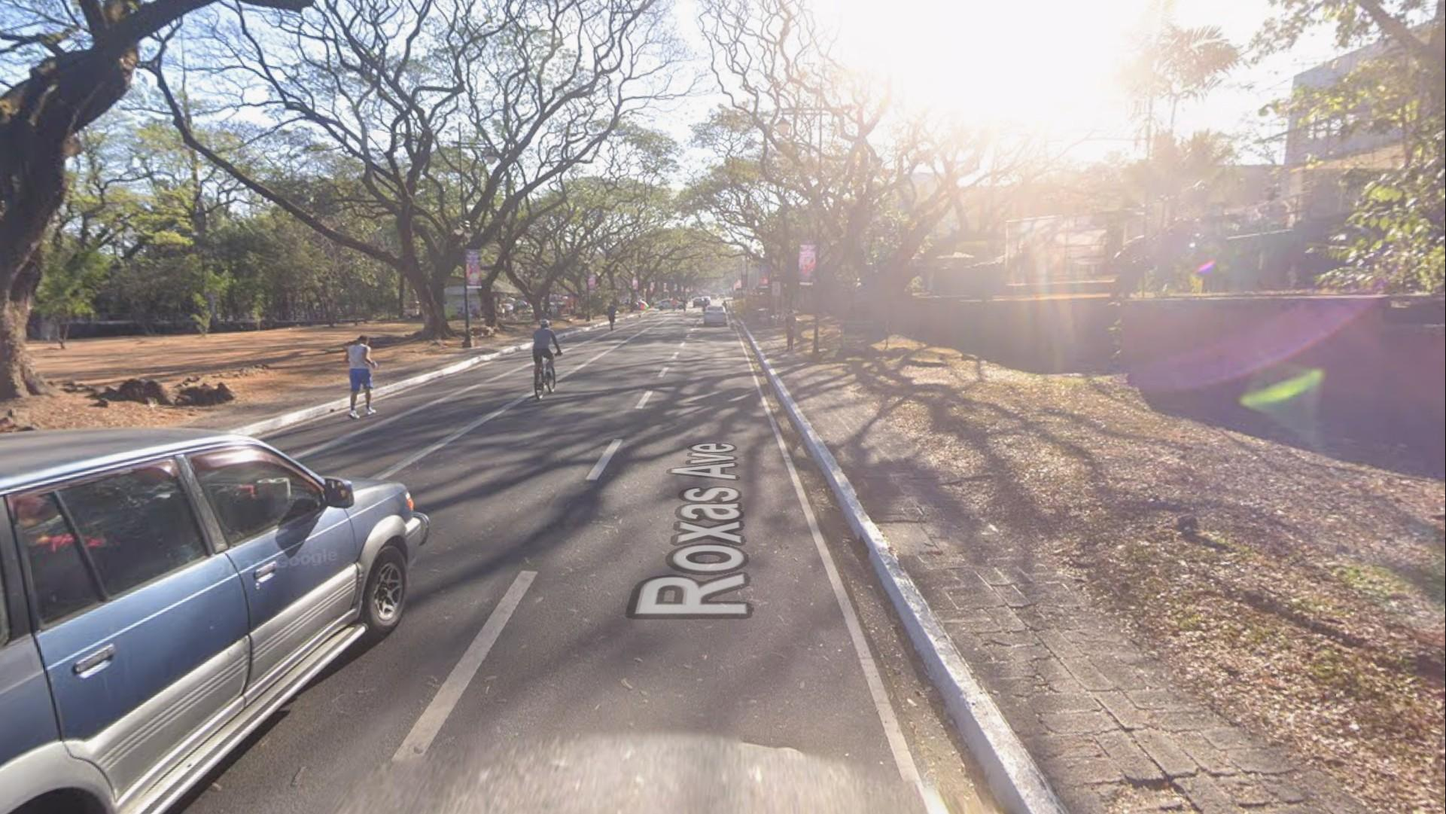cyclist: (530, 318, 563, 401)
pedestrian: (343, 334, 378, 419), (784, 310, 797, 351), (607, 303, 617, 332), (671, 297, 677, 313), (682, 298, 687, 314)
